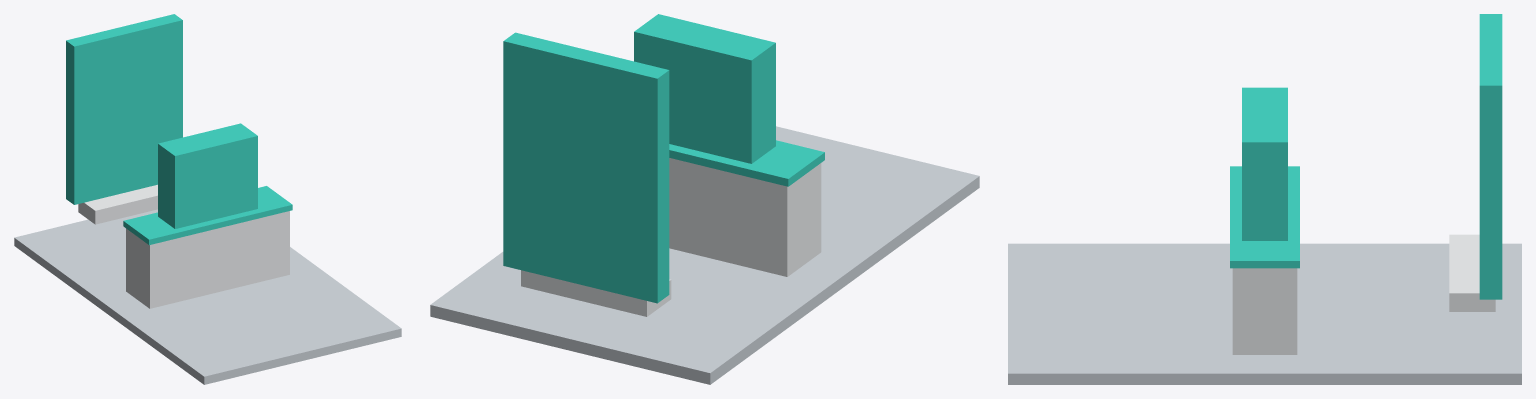
3 views of the same model, side by side, from view 1: azimuth 30°, elevation 25°; view 2: azimuth 150°, elevation 25°; view 3: azimuth 270°, elevation 25° (orthographic). The views are drawn at different scales.
Visible parts, largest first — view 1: Exhibition Booth Concept; view 2: Exhibition Booth Concept; view 3: Exhibition Booth Concept.
Boxes of the visible parts, <box> form: Exhibition Booth Concept: <box>14,14,401,384</box>; Exhibition Booth Concept: <box>430,14,979,384</box>; Exhibition Booth Concept: <box>1008,14,1521,384</box>.
Bounding box in the file's own units: 3 × 2.9 × 5.
